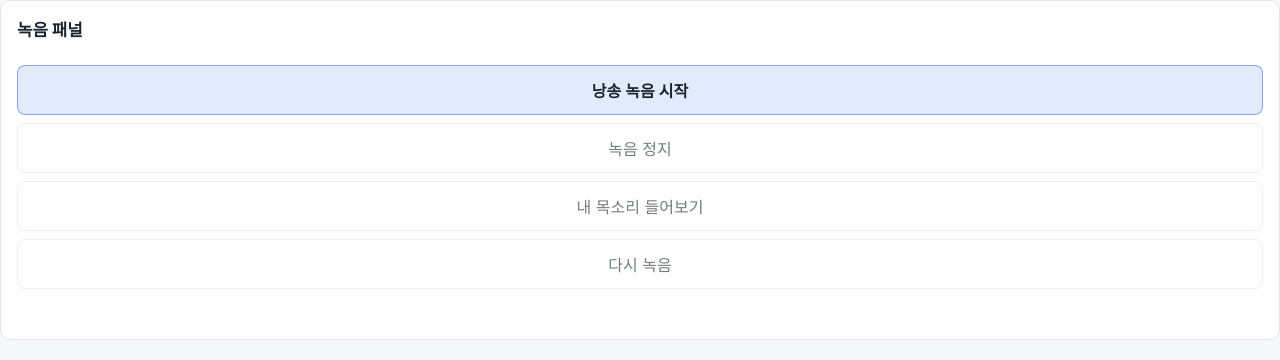
Test case: RecorderPanel › stops media tracks and reports microphone error when recorder start throws
The image size is (1280, 360).
Click the button "낭송 녹음 시작".
click(640, 90)  # box [17, 65, 1263, 115]
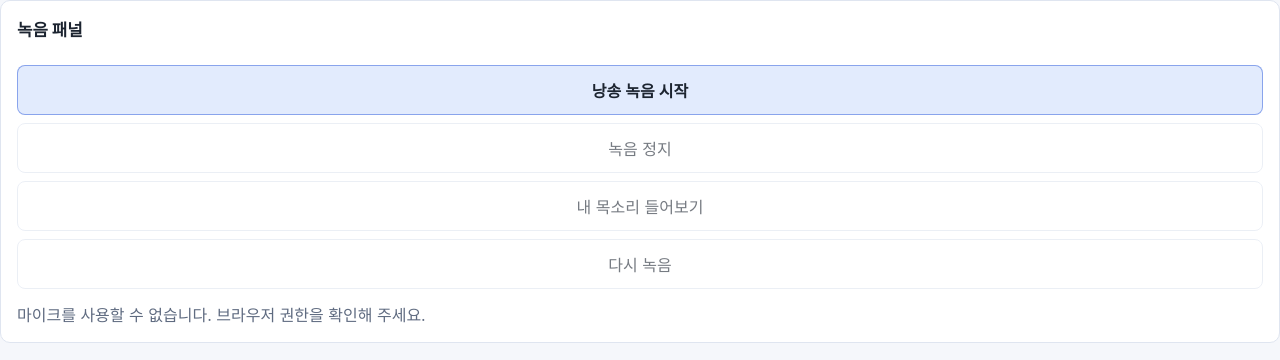
Result: the message reads "마이크를 사용할 수 없습니다. 브라우저 권한을 확인해 주세요." at [17, 305, 426, 325]
